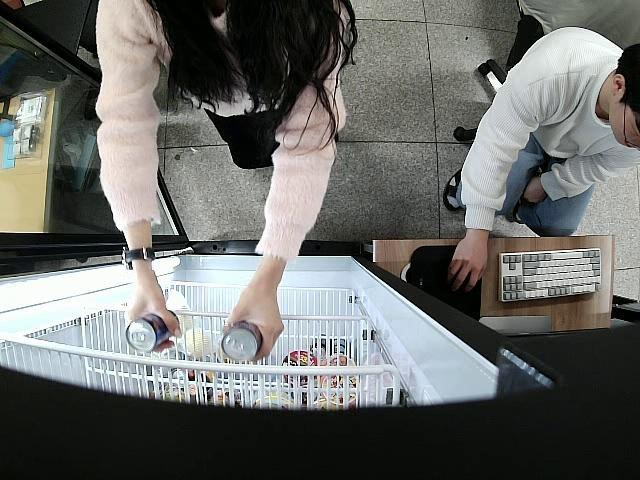16_hot6: (126, 310, 180, 353), (222, 322, 263, 361)
